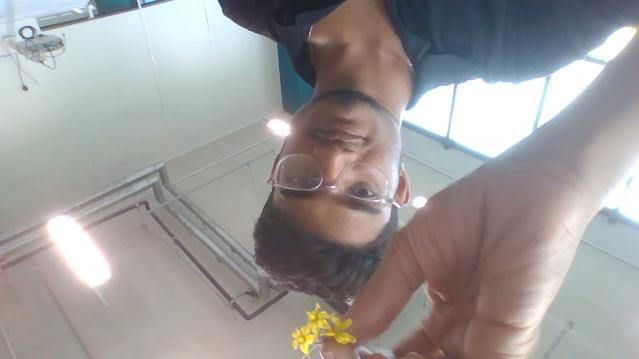Anthesis: (321, 314, 357, 345), (305, 302, 333, 333), (291, 326, 317, 356), (334, 330, 356, 344)
